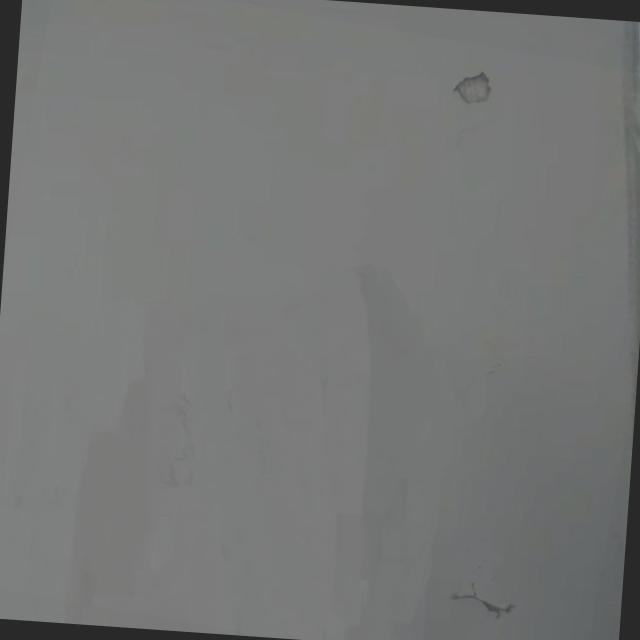corrosion: (451, 67, 494, 107)
crack: (449, 578, 516, 622)
